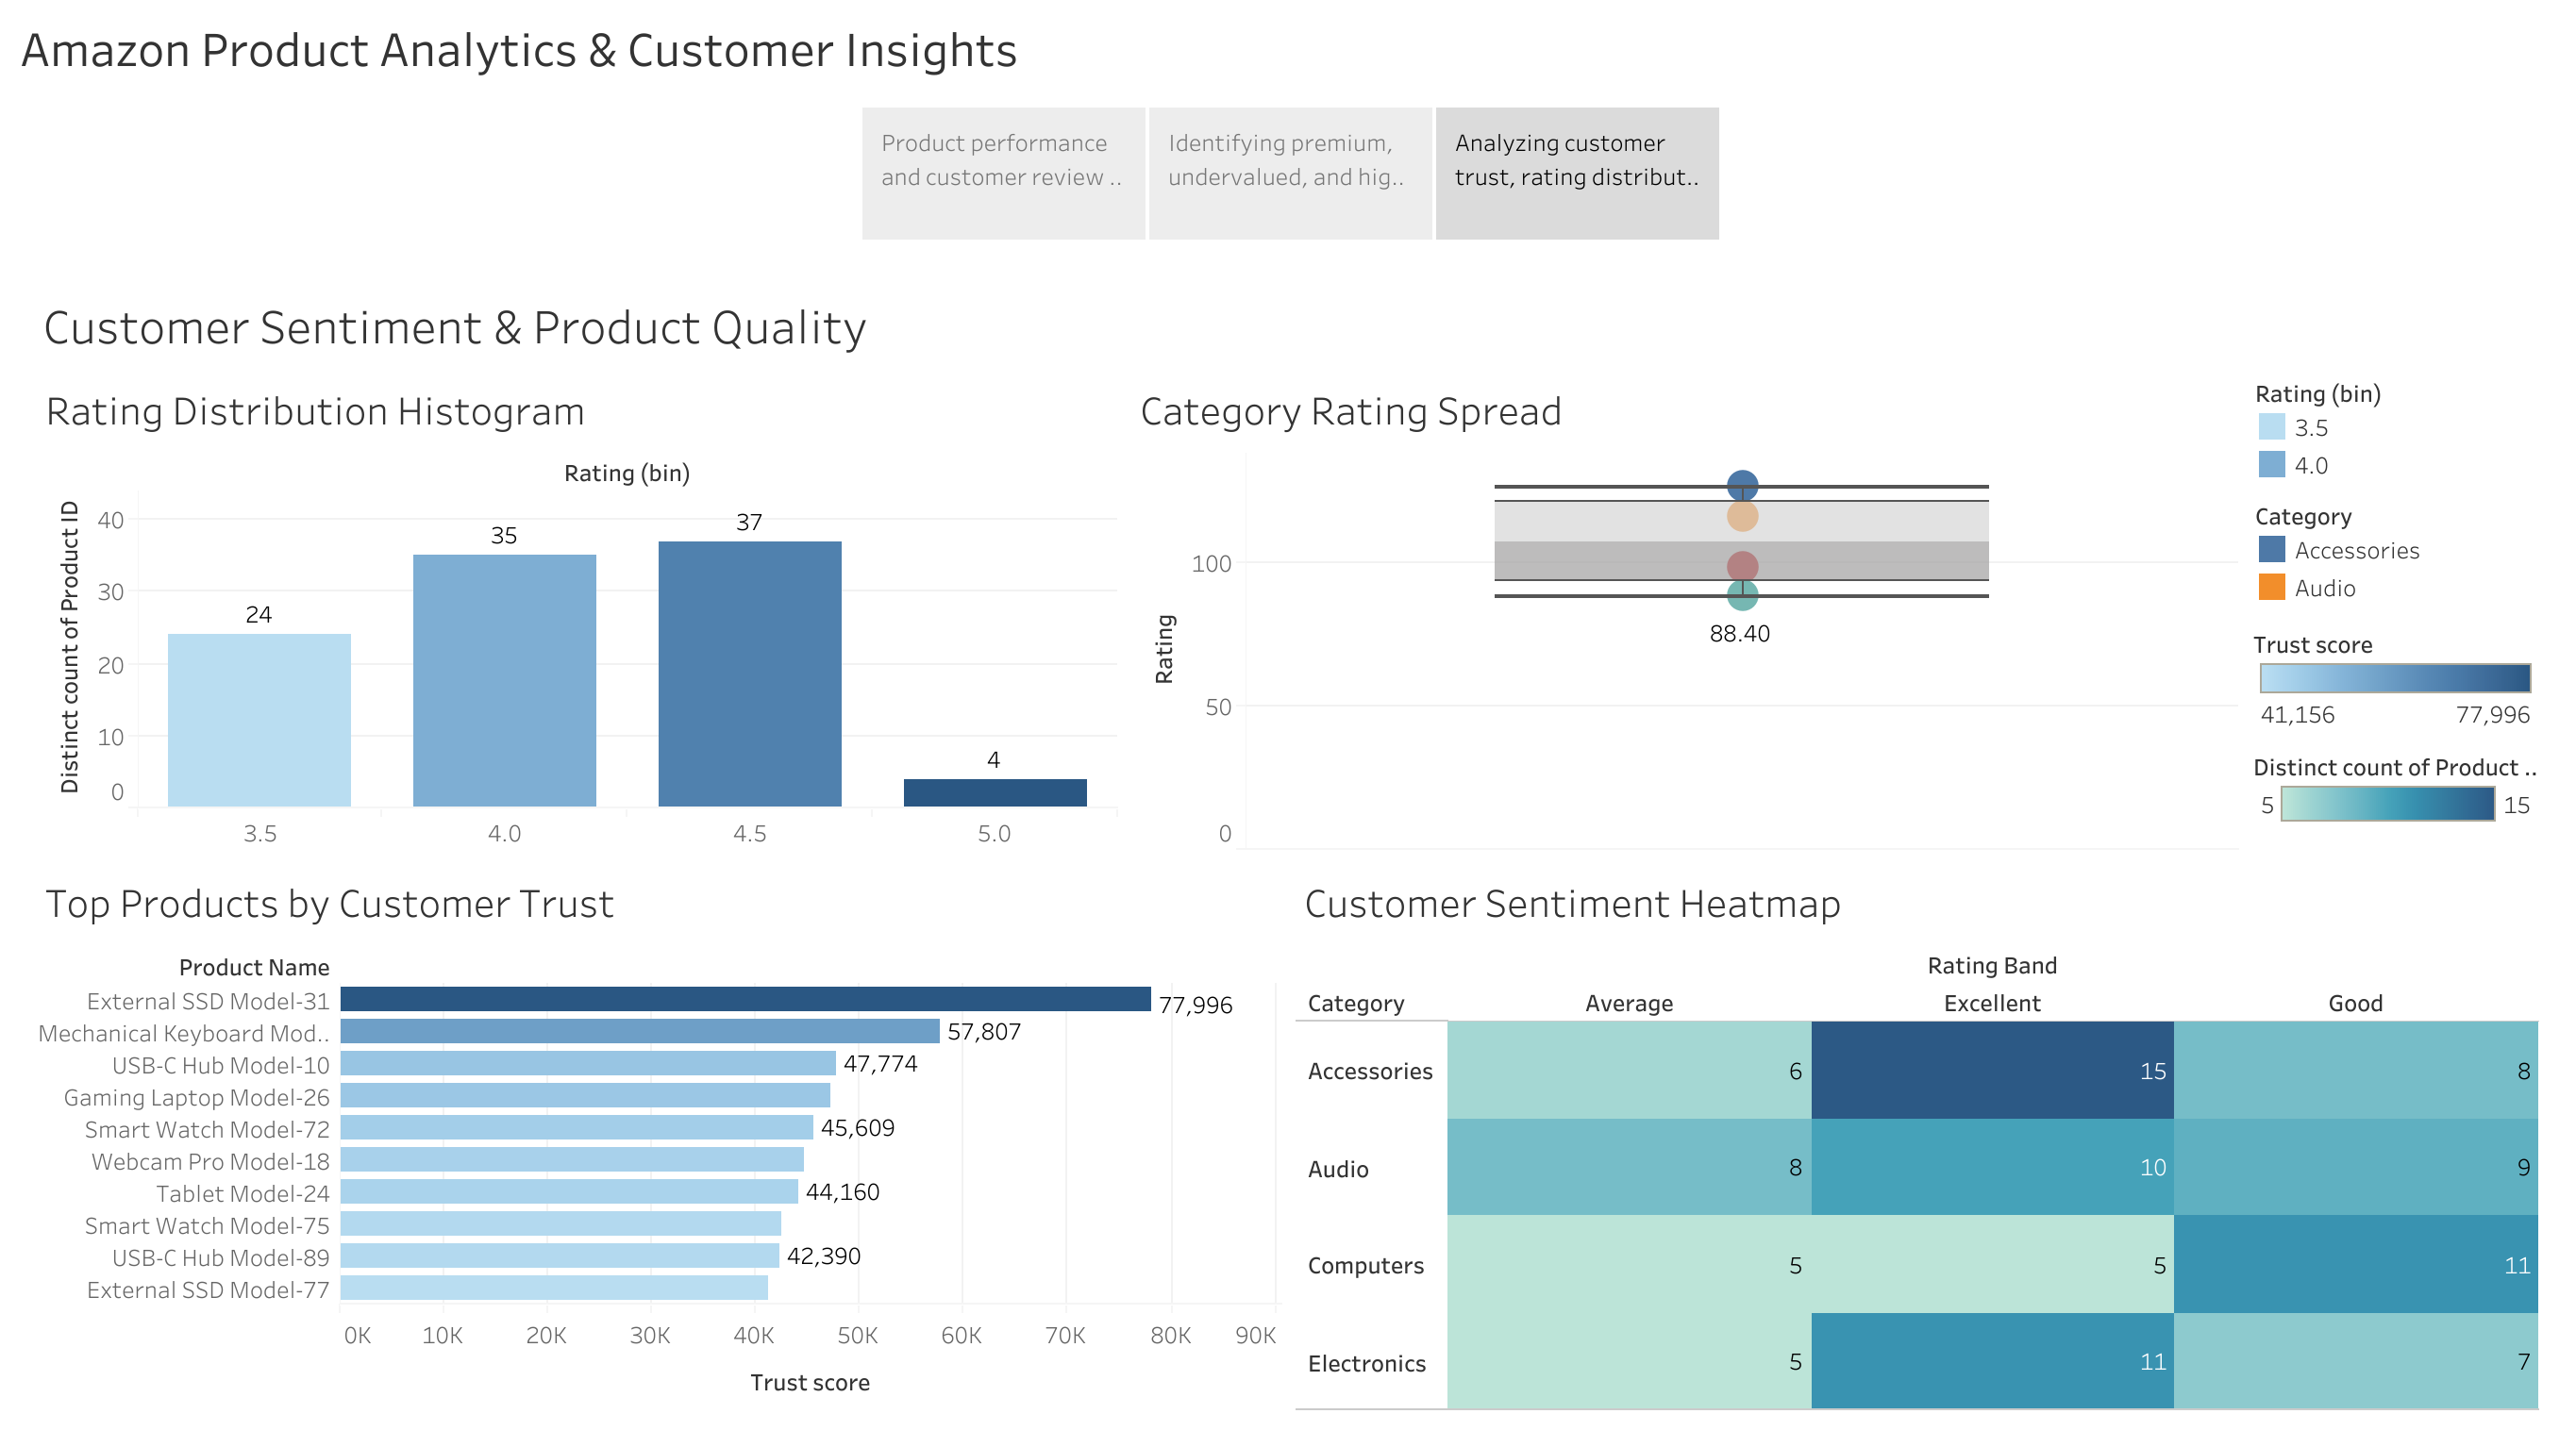

The page's visual inventory and layout, read from the dashboard file:
{"tool":"tableau","page":{"name":"Customer Sentiment & Product Quality","canvas":[1000,1000],"units":"permille","ordinal":1},"visuals":[{"type":"title","box":[6.2,11.2,987.7,58.6]},{"type":"worksheet","title":"Rating Distribution Histogram","mark":"Automatic","rows":["Product_ID"],"cols":["Rating (bin)"],"box":[6.2,69.7,427.2,429.6]},{"type":"worksheet","title":"Category Rating Spread","mark":"Circle","rows":["Rating"],"box":[433.4,69.7,437.3,429.6]},{"type":"legend","title":"Rating Distribution Histogram","param":"[federated.1dmpaba030k53b1ellbzi0w4fpez].[none:Rating (bin):ok]","box":[870.7,69.7,123.2,124.1]},{"type":"legend","title":"Category Rating Spread","param":"[federated.1dmpaba030k53b1ellbzi0w4fpez].[none:Category:nk]","box":[870.7,193.9,123.2,124.1]},{"type":"legend","title":"Top Products by Customer Trust","param":"[federated.1dmpaba030k53b1ellbzi0w4fpez].[sum:Calculation_147985474029326338:qk]","box":[870.7,318,123.2,90.7]},{"type":"legend","title":"Customer Sentiment Heatmap","param":"[federated.1dmpaba030k53b1ellbzi0w4fpez].[ctd:Product_ID:qk]","box":[870.7,408.6,123.2,90.7]},{"type":"worksheet","title":"Top Products by Customer Trust","mark":"Automatic","rows":["Product_Name"],"cols":["Calculation_147985474029326338"],"box":[6.2,499.3,493.8,489.5]},{"type":"worksheet","title":"Customer Sentiment Heatmap","mark":"Automatic","rows":["Category"],"cols":["Calculation_173740434424287232"],"box":[500,499.3,493.8,489.5]}]}

Visuals, with their boxes on the dashboard's canvas, which has no fixed pixel size, in thousandths of its width and height (x1, y1, x2, y2). These are canvas units, not pixel positions in the 2576x1447 screenshot, which may show the page scaled, cropped or inside an application window:
title: <bbox>6, 11, 994, 70</bbox>
"Rating Distribution Histogram" worksheet: <bbox>6, 70, 433, 499</bbox>
"Category Rating Spread" worksheet (Circle marks): <bbox>433, 70, 871, 499</bbox>
"Rating Distribution Histogram" legend: <bbox>871, 70, 994, 194</bbox>
"Category Rating Spread" legend: <bbox>871, 194, 994, 318</bbox>
"Top Products by Customer Trust" legend: <bbox>871, 318, 994, 409</bbox>
"Customer Sentiment Heatmap" legend: <bbox>871, 409, 994, 499</bbox>
"Top Products by Customer Trust" worksheet: <bbox>6, 499, 500, 989</bbox>
"Customer Sentiment Heatmap" worksheet: <bbox>500, 499, 994, 989</bbox>
